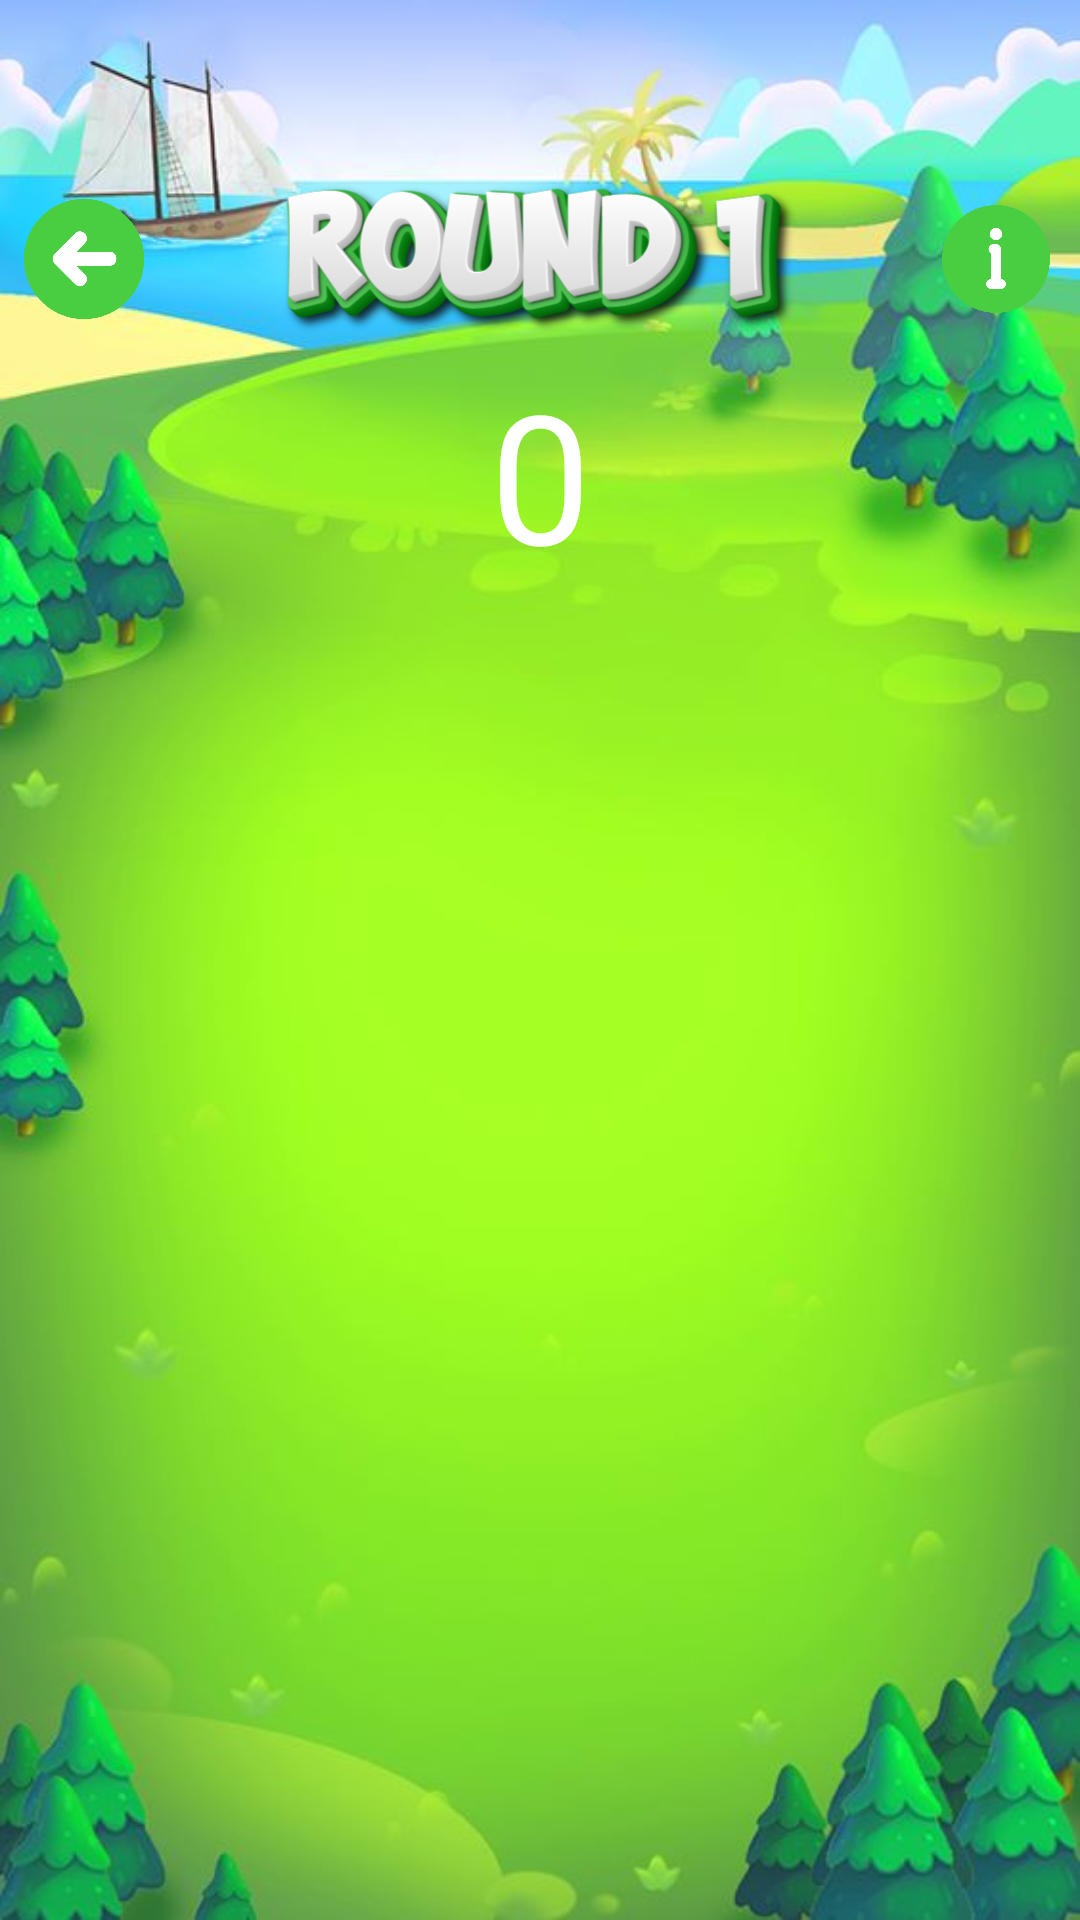

Where to tap for icons on this 1080 × 1920 app screen, as (x,y):
back: (84,259)
info: (996,259)
